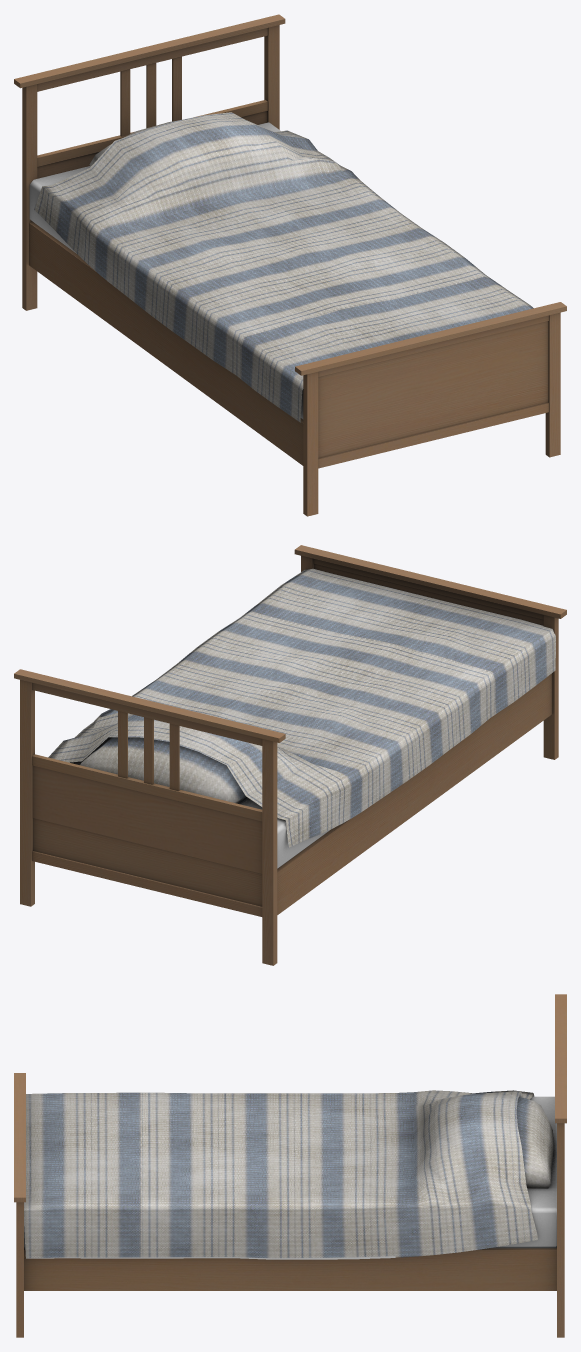
Rendered from 0-singleBedTidy.fbx.
3 renders of one model, top to bottom at view 1: azimuth 30°, elevation 25°; view 2: azimuth 150°, elevation 25°; view 3: azimuth 270°, elevation 25°, orthographic. The views are drawn at different scales.
Visible parts, largest first — view 1: bedTidy; view 2: bedTidy; view 3: bedTidy.
Boxes of the visible parts, box(x1,y1,x2,y2) form: bedTidy: box(14, 14, 566, 516); bedTidy: box(14, 545, 566, 965); bedTidy: box(14, 994, 566, 1337).
Bounding box in the file's own units: 1.86 × 1.54 × 3.48.
1 material, 1 textured.
